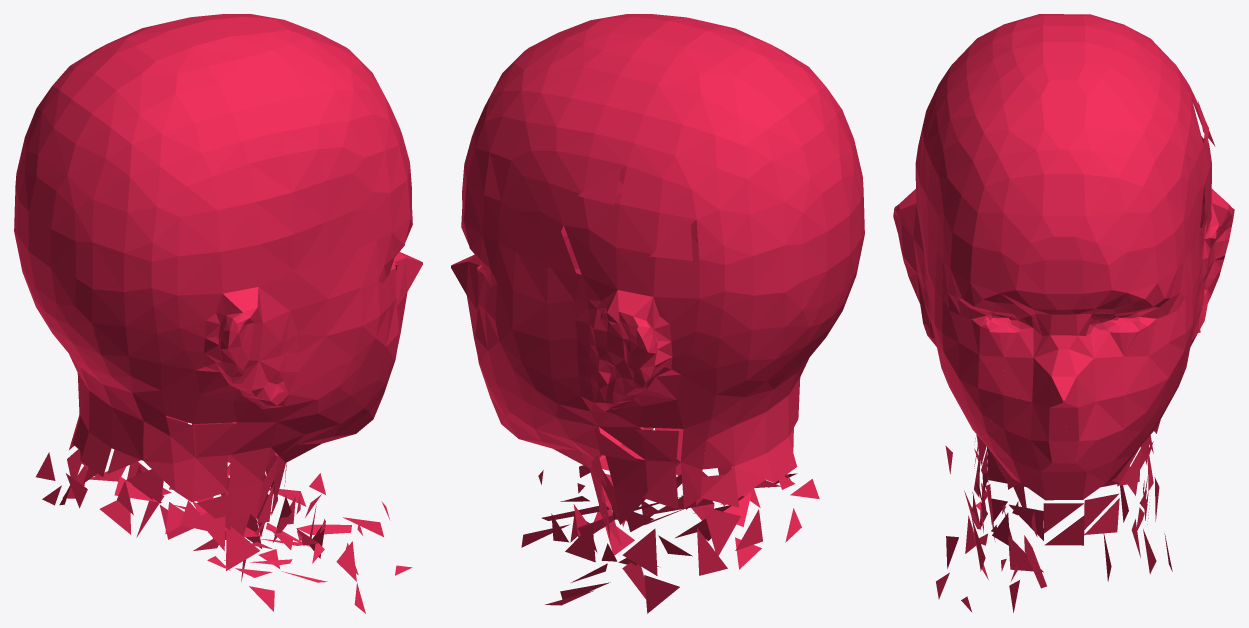
The model's file is head.gltfpack.glb.
3 views of the same model, side by side, from view 1: azimuth 30°, elevation 25°; view 2: azimuth 150°, elevation 25°; view 3: azimuth 270°, elevation 25° (orthographic). The views are drawn at different scales.
Visible parts, largest first — view 1: m177, m1230, m247, m174, m582, m250, m327, m422, m1229, m1413, m149, m592 (+77 smaller); view 2: m647, m598, m474, m973, m1001, m476, m1425, m87, m970, m1455, m41, m701 (+68 smaller); view 3: m1281, m1282, m1271, m1351, m931, m1202, m1496, m737, m798, m865, m1211, m1209 (+43 smaller).
Part boxes in pixels (box(x1,y1,x2,y2)): m177: box(178, 252, 222, 295); m1230: box(221, 202, 260, 251); m247: box(177, 217, 219, 256); m174: box(220, 244, 259, 293); m582: box(217, 202, 255, 251); m250: box(177, 252, 219, 294); m327: box(191, 458, 228, 501); m422: box(226, 526, 259, 570); m1229: box(180, 210, 220, 251); m1413: box(257, 192, 294, 233); m149: box(223, 245, 260, 293); m592: box(256, 202, 294, 244); m647: box(653, 257, 698, 298); m598: box(702, 506, 740, 555); m474: box(616, 205, 653, 253); m973: box(649, 221, 692, 260); m1001: box(620, 204, 659, 251); m476: box(616, 247, 655, 296); m1425: box(622, 528, 657, 575); m87: box(643, 464, 678, 509); m970: box(658, 257, 699, 297); m1455: box(701, 466, 738, 507); m41: box(750, 202, 785, 244); m701: box(616, 248, 652, 296); m1281: box(1043, 174, 1085, 216); m1282: box(1042, 174, 1083, 215); m1271: box(1041, 96, 1086, 127); m1351: box(1010, 174, 1043, 215); m931: box(1084, 174, 1117, 215); m1202: box(1003, 179, 1041, 216); m1496: box(1086, 179, 1124, 216); m737: box(1041, 471, 1086, 499); m798: box(1004, 357, 1033, 401); m865: box(1094, 356, 1123, 400); m1211: box(1045, 260, 1083, 293); m1209: box(1044, 261, 1083, 293).
Bounding box in the file's own units: 1.62 × 2.25 × 1.33.
